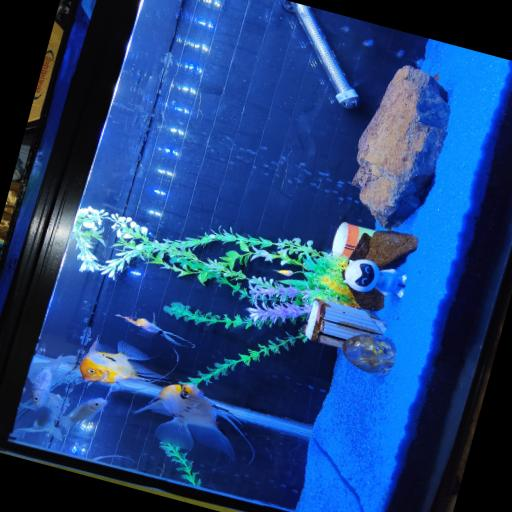Fish: (136, 383, 253, 459), (80, 338, 164, 383), (117, 313, 195, 347), (28, 355, 76, 406), (14, 392, 63, 440), (60, 397, 107, 428), (275, 269, 294, 275)
